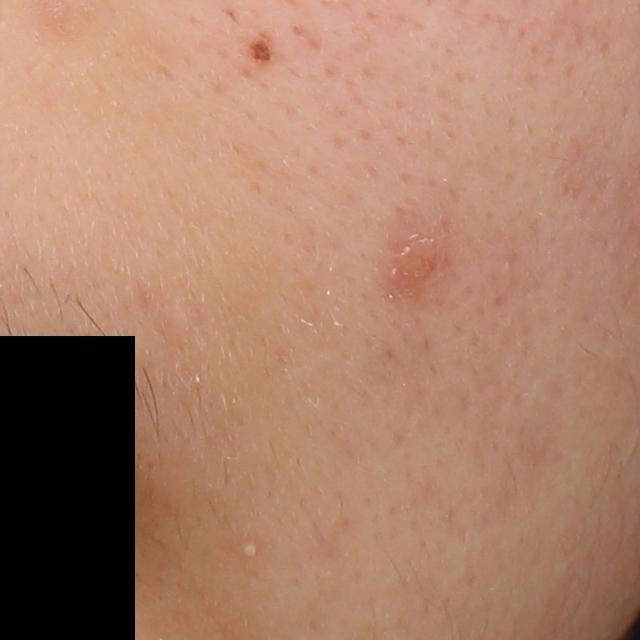nevus: (248, 37, 274, 63)
papule: (394, 230, 443, 290)
pustule: (238, 540, 262, 565)
